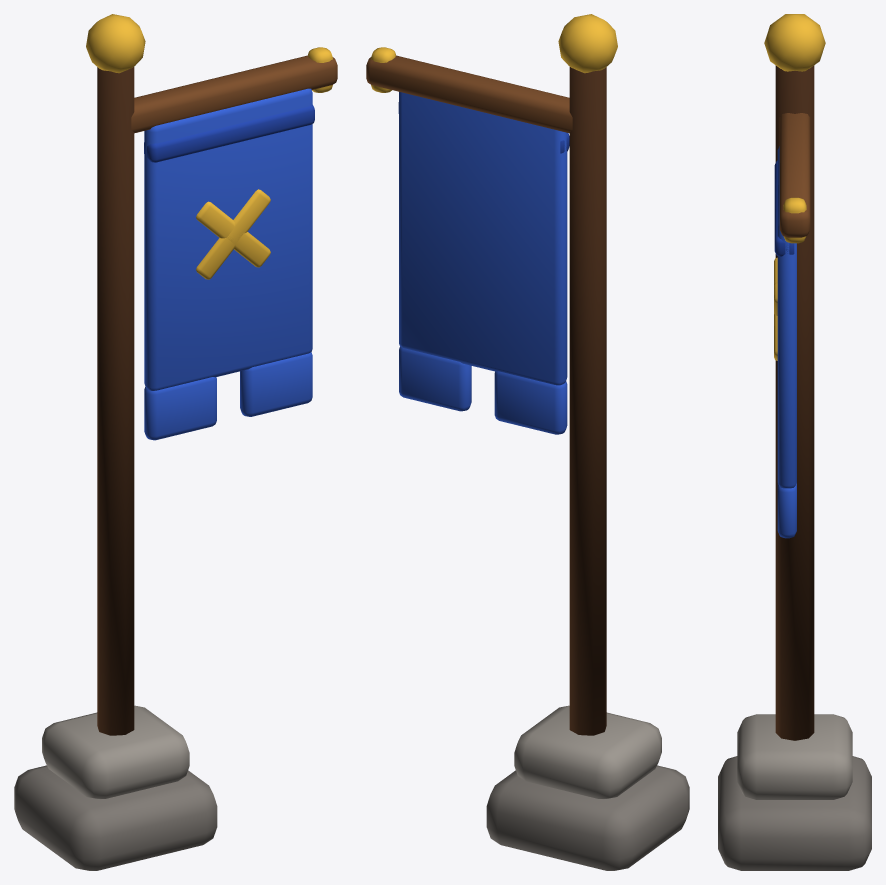
Rendered from RallyBanner.glb.
The picture shows the model from 3 angles, left to right: view 1: azimuth 30°, elevation 25°; view 2: azimuth 150°, elevation 25°; view 3: azimuth 270°, elevation 25°; orthographic projection.
Parts seen in each view (by area): view 1: RallyBanner; view 2: RallyBanner; view 3: RallyBanner.
Boxes of the visible parts, x1=… form: RallyBanner: x1=14, y1=14, x2=337, y2=870; RallyBanner: x1=366, y1=14, x2=689, y2=870; RallyBanner: x1=718, y1=14, x2=871, y2=870.
Bounding box in the file's own units: 0.88 × 2.38 × 0.4.
